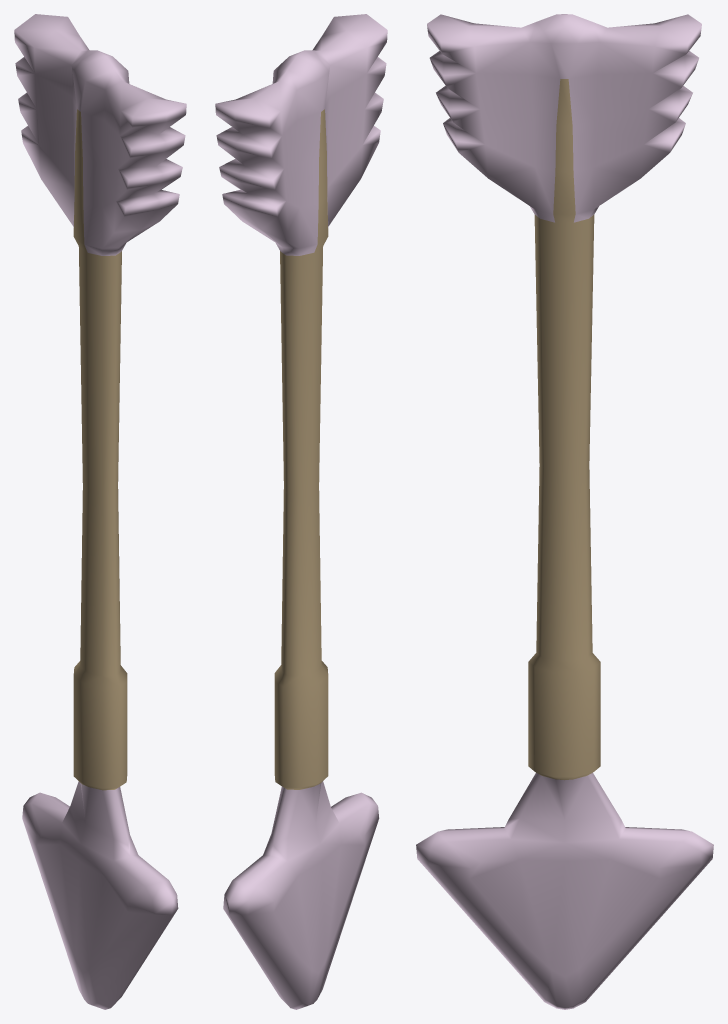
The model's file is Arrow.fbx.
The picture shows the model from 3 angles, left to right: view 1: azimuth 30°, elevation 25°; view 2: azimuth 150°, elevation 25°; view 3: azimuth 270°, elevation 25°; orthographic projection. The views are drawn at different scales.
Parts seen in each view (by area): view 1: Arrow1; view 2: Arrow1; view 3: Arrow1.
Boxes of the visible parts, bbox=[...] form: Arrow1: bbox=[14, 14, 186, 1009]; Arrow1: bbox=[215, 14, 387, 1009]; Arrow1: bbox=[416, 14, 713, 1009].
Bounding box in the file's own units: 0.2227 × 3.78 × 1.02.
